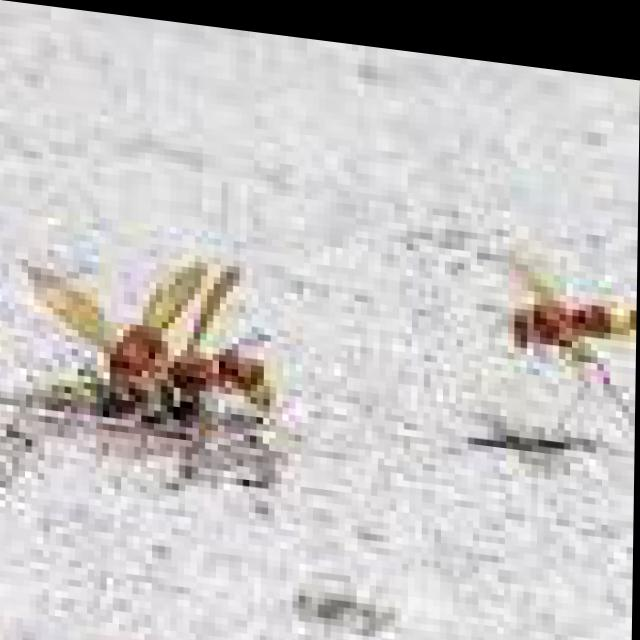Vespa Orientalis: (5, 231, 216, 429), (476, 208, 632, 396), (156, 251, 291, 441)
